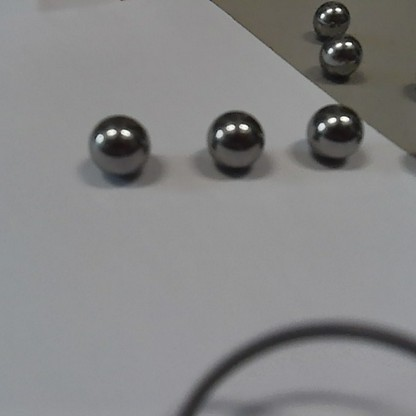ironball: (88, 111, 151, 180), (206, 110, 264, 175), (305, 100, 365, 162), (319, 31, 363, 76), (312, 0, 352, 36)
